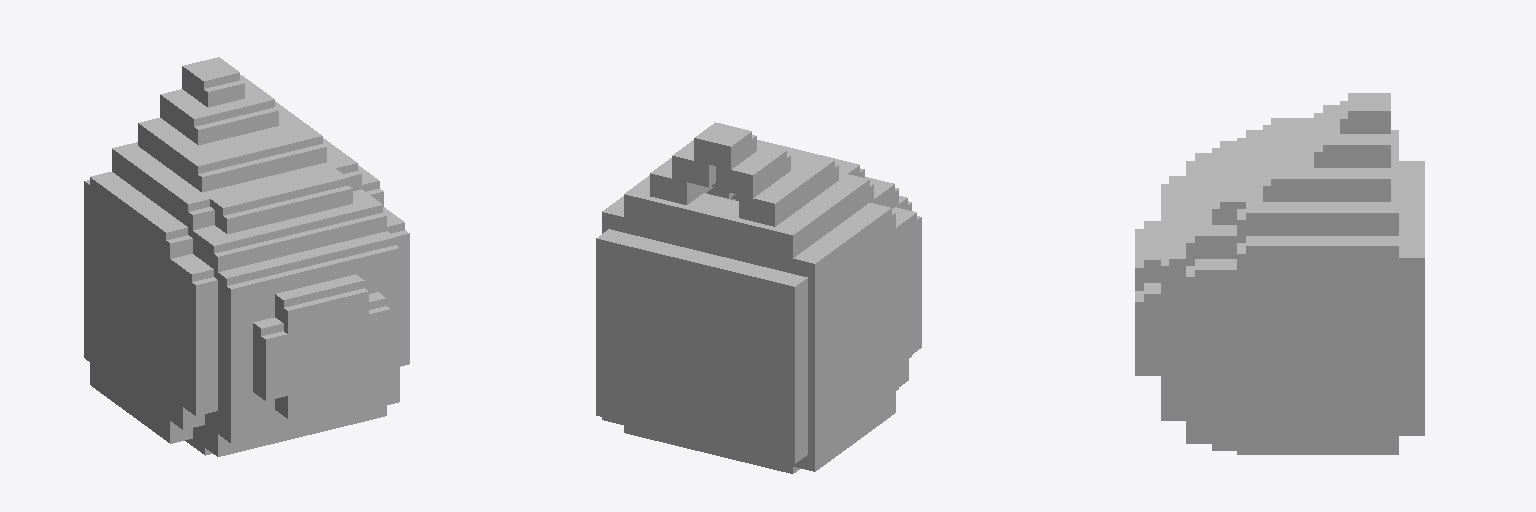
Rendered from head.obj.
The picture shows the model from 3 angles: view 1: azimuth 30°, elevation 25°; view 2: azimuth 150°, elevation 25°; view 3: azimuth 270°, elevation 25°; orthographic projection.
Size of the model in its own units: 29 by 40 by 34.